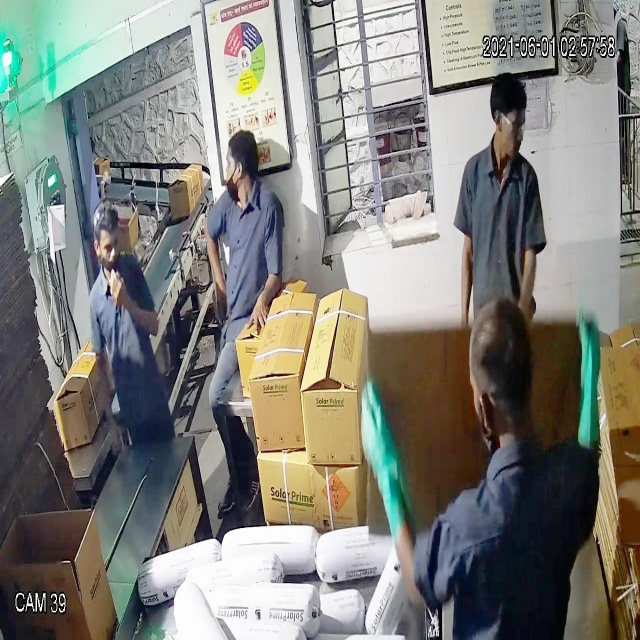Gafas: (490, 106, 531, 145)
Sin_gafas: (88, 229, 127, 260)
